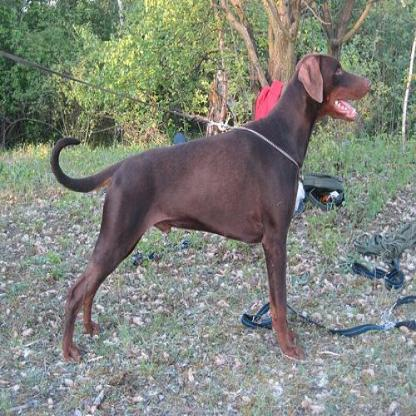Doberman: (49, 52, 371, 362)
